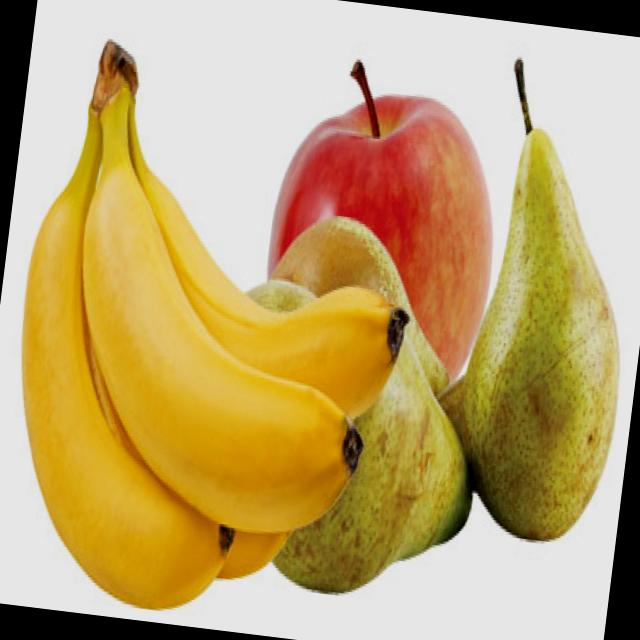apple: (243, 80, 512, 464)
banana: (44, 158, 396, 538), (0, 165, 266, 615), (80, 162, 418, 440)
